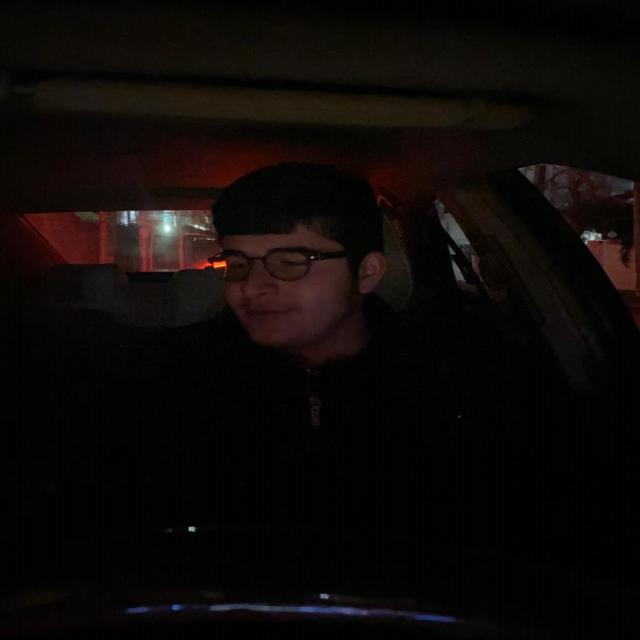drowsy: (208, 151, 392, 347)
